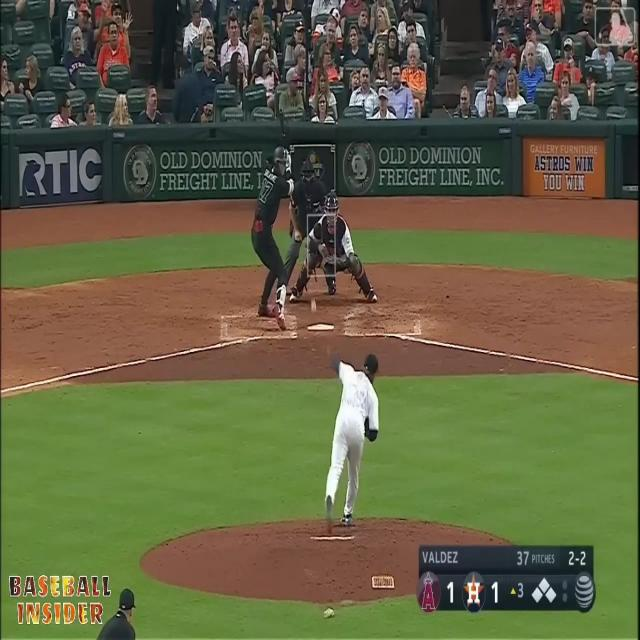baseball: (311, 300, 316, 310)
